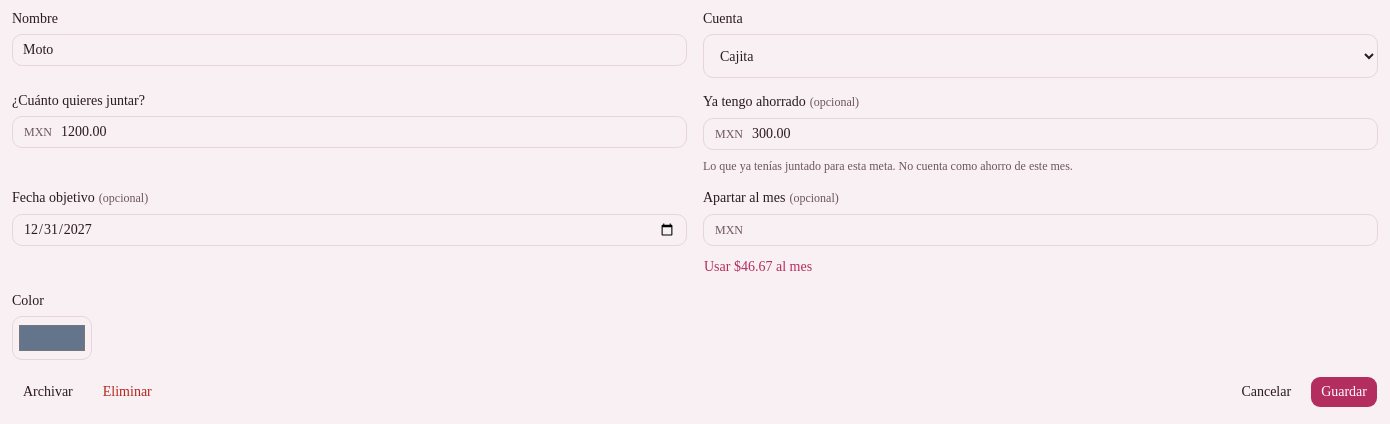
Test case: GoalForm › subtracts the typed starting amount plus tagged savings from the monthly hint
Replace the text in the field labelled "Ya tengo ahorrado" with "600" at (1040, 134), box [703,118,1378,150]
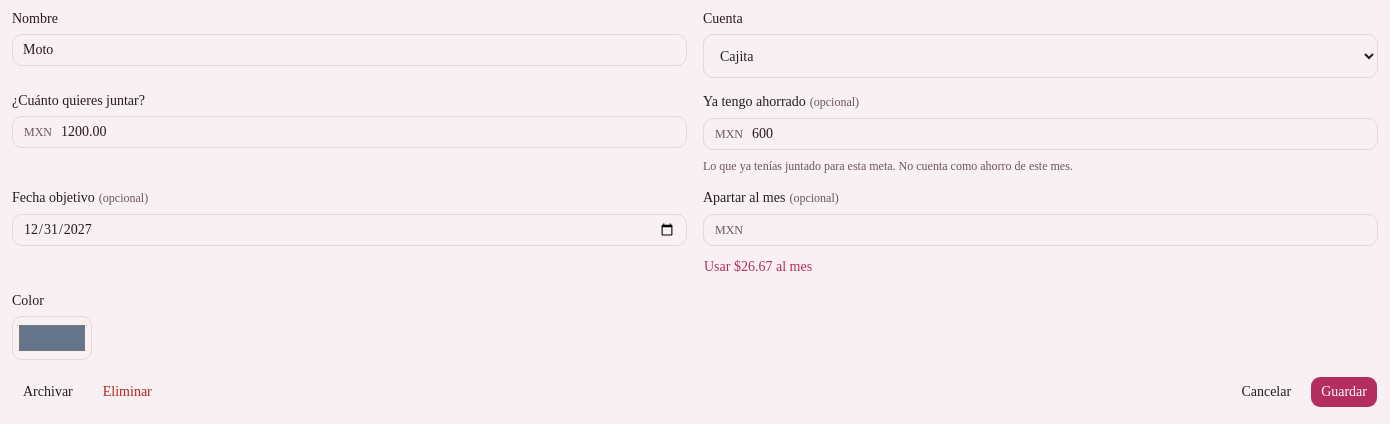
Click the button "Usar $26.67 al mes" at (758, 267), box [703,256,813,278]
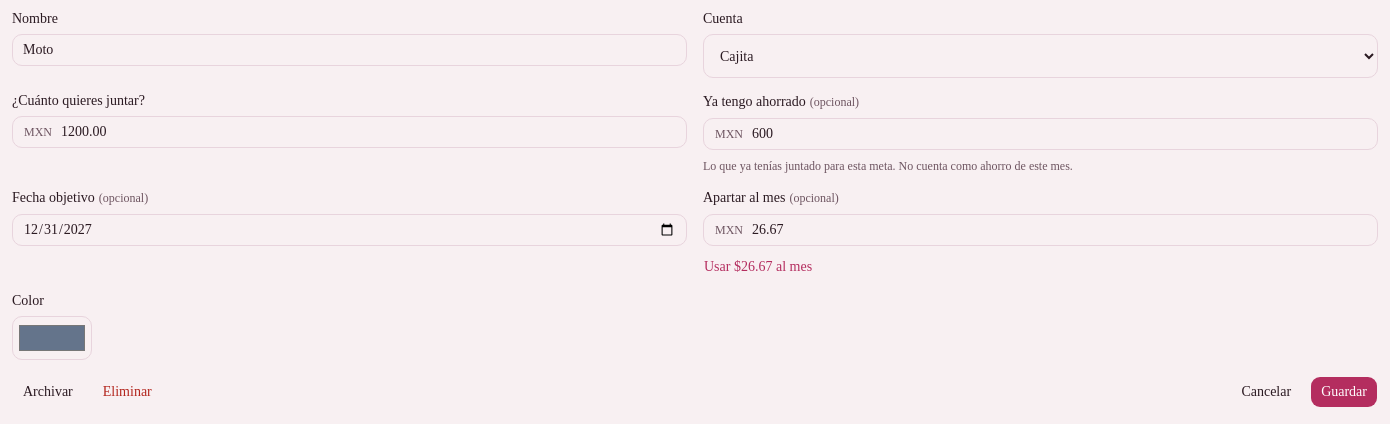
A start that covers what is left removes the hint.
Replace the text in the field labelled "Ya tengo ahorrado" with "1000" at (1040, 134), box [703,118,1378,150]
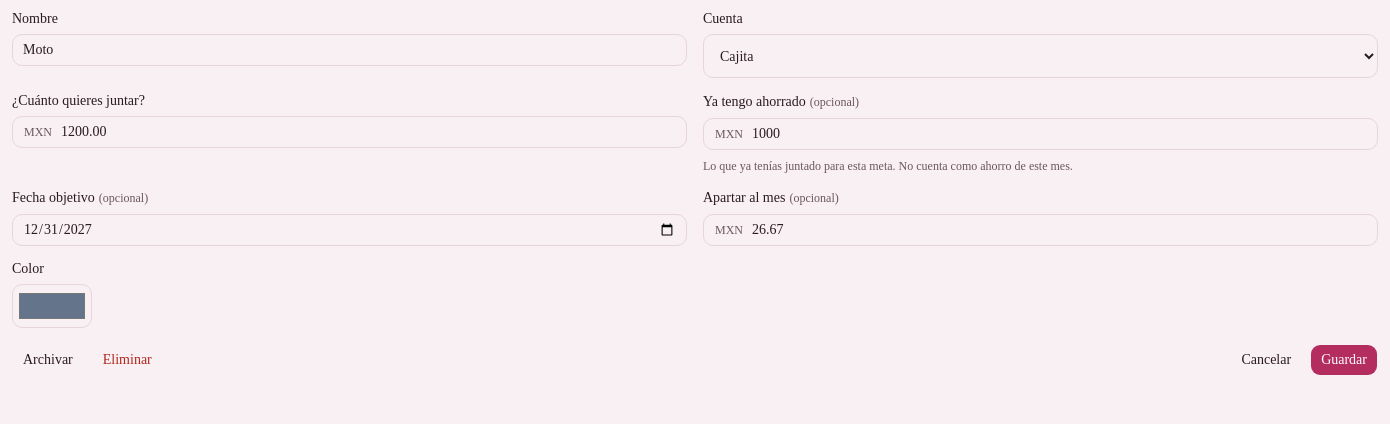
Expected: the button "Usar $26.67 al mes" is gone
